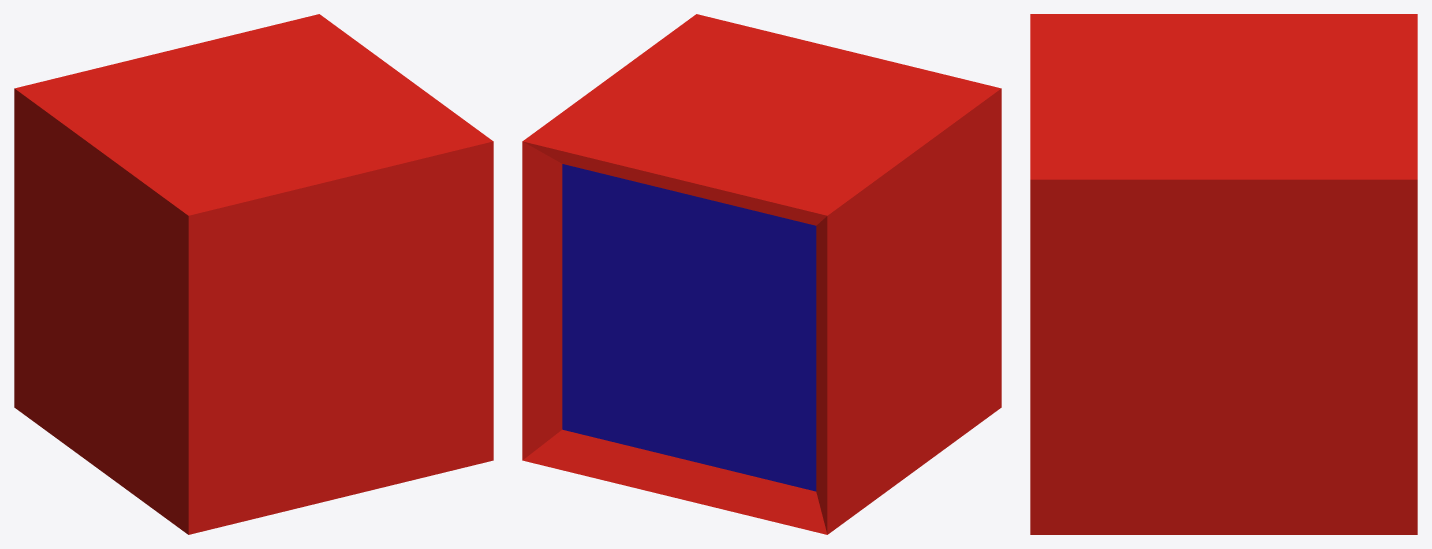
File: ModelExample2.glb
The picture shows the model from 3 angles, left to right: view 1: azimuth 30°, elevation 25°; view 2: azimuth 150°, elevation 25°; view 3: azimuth 270°, elevation 25°; orthographic projection. The views are drawn at different scales.
Parts seen in each view (by area): view 1: Outter; view 2: Outter, Inner; view 3: Outter.
Part boxes in pixels (x1,y1,x2,y2): Outter: [14, 14, 493, 534]; Outter: [522, 14, 1001, 534]; Inner: [562, 164, 816, 491]; Outter: [1030, 14, 1417, 534].
Size of the model in its own units: 0.2527 by 0.2527 by 0.2498.
